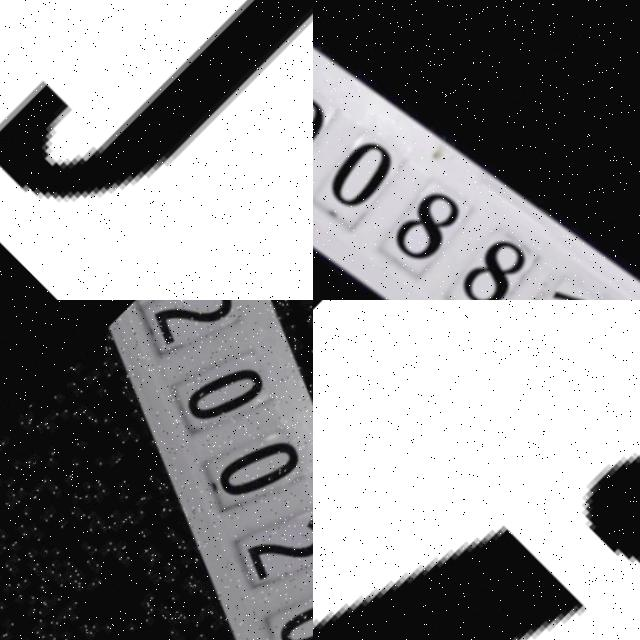0: (157, 321, 294, 458), (188, 391, 313, 532), (313, 111, 419, 228), (250, 549, 313, 640)
1: (503, 263, 616, 300)
2: (220, 475, 313, 611), (126, 300, 262, 375)
8: (372, 167, 485, 280), (437, 213, 552, 300)
9: (313, 68, 350, 183)
I: (313, 308, 640, 640)
J: (0, 0, 313, 259)
